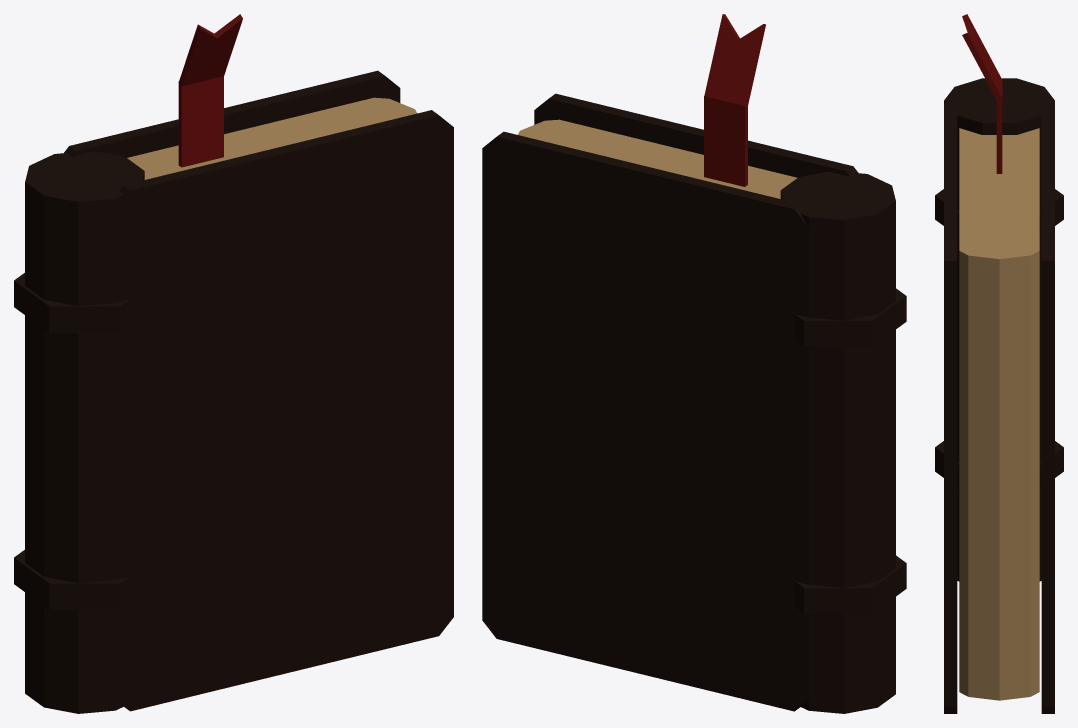
The model's file is lefthand-item-30f012.fbx.
3 views of the same model, side by side, from view 1: azimuth 30°, elevation 25°; view 2: azimuth 150°, elevation 25°; view 3: azimuth 270°, elevation 25° (orthographic). The views are drawn at different scales.
Visible parts, largest first — view 1: mesh_0_cover, mesh_0_ribbonColor, mesh_0_Mat_D2BE9C; view 2: mesh_0_cover, mesh_0_ribbonColor, mesh_0_Mat_D2BE9C; view 3: mesh_0_Mat_D2BE9C, mesh_0_cover, mesh_0_ribbonColor.
Boxes of the visible parts, x1,y1,x2,y2 form: mesh_0_cover: [14, 70, 453, 713]; mesh_0_ribbonColor: [178, 14, 242, 167]; mesh_0_Mat_D2BE9C: [127, 97, 417, 179]; mesh_0_cover: [482, 93, 906, 713]; mesh_0_ribbonColor: [704, 14, 765, 186]; mesh_0_Mat_D2BE9C: [517, 119, 797, 198]; mesh_0_Mat_D2BE9C: [959, 128, 1039, 700]; mesh_0_cover: [935, 78, 1063, 713]; mesh_0_ribbonColor: [962, 14, 1002, 173].
Size of the model in its own units: 18.5 by 29.7 by 5.8.
